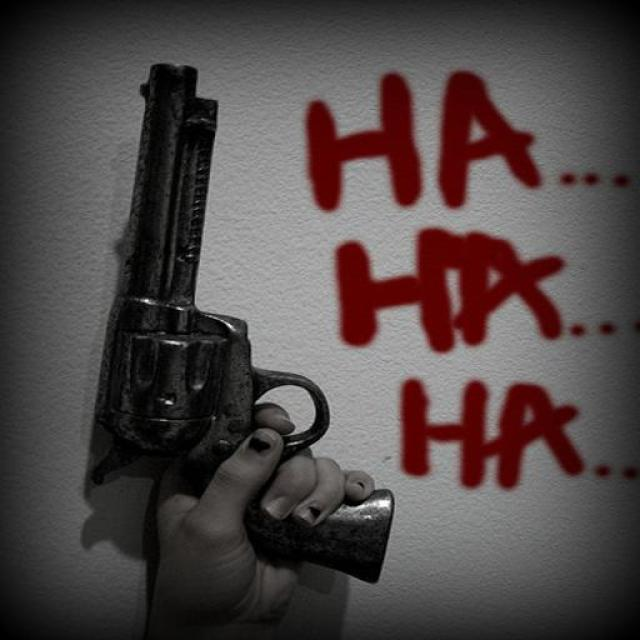pistol: (90, 61, 394, 582)
